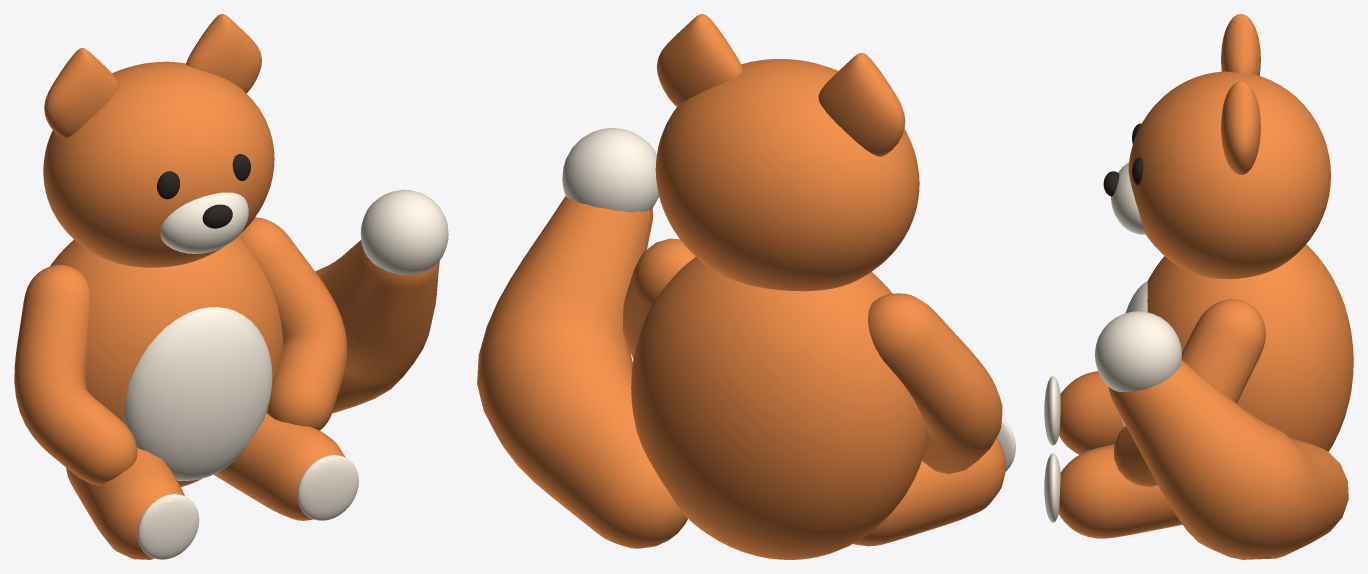
Rendered from deco_zorro.glb.
The picture shows the model from 3 angles, left to right: view 1: azimuth 30°, elevation 25°; view 2: azimuth 150°, elevation 25°; view 3: azimuth 270°, elevation 25°; orthographic projection. The views are drawn at different scales.
Parts seen in each view (by area): view 1: cabeza zorro.001, barriga zorro.001, panza zorro.001, brazo.030, brazo.031, cola zorro.001, pierna.031, punta cola.001, pierna.030, oreja gato.006, hocico.015, oreja gato.007 (+3 smaller); view 2: panza zorro.001, cabeza zorro.001, cola zorro.001, brazo.030, punta cola.001, pierna.030, oreja gato.006, oreja gato.007, brazo.031; view 3: cabeza zorro.001, cola zorro.001, panza zorro.001, pierna.031, brazo.031, punta cola.001, pierna.030, oreja gato.007, oreja gato.006, hocico.015, planta pata.030, planta pata.031 (+1 smaller).
Boxes of the visible parts, x1=… form: cabeza zorro.001: x1=43, y1=61, x2=274, y2=267; barriga zorro.001: x1=124, y1=307, x2=272, y2=480; panza zorro.001: x1=50, y1=236, x2=282, y2=486; brazo.030: x1=14, y1=265, x2=137, y2=485; brazo.031: x1=238, y1=217, x2=346, y2=430; cola zorro.001: x1=315, y1=240, x2=439, y2=413; pierna.031: x1=213, y1=413, x2=345, y2=520; punta cola.001: x1=360, y1=189, x2=448, y2=274; pierna.030: x1=66, y1=448, x2=184, y2=559; oreja gato.006: x1=44, y1=48, x2=119, y2=138; hocico.015: x1=160, y1=192, x2=248, y2=253; oreja gato.007: x1=186, y1=14, x2=261, y2=93; panza zorro.001: x1=631, y1=257, x2=927, y2=559; cabeza zorro.001: x1=655, y1=59, x2=919, y2=291; cola zorro.001: x1=477, y1=196, x2=687, y2=548; brazo.030: x1=868, y1=293, x2=1002, y2=474; punta cola.001: x1=562, y1=128, x2=658, y2=212; pierna.030: x1=853, y1=438, x2=1005, y2=546; oreja gato.006: x1=818, y1=53, x2=905, y2=156; oreja gato.007: x1=656, y1=14, x2=742, y2=106; brazo.031: x1=622, y1=238, x2=695, y2=358; cabeza zorro.001: x1=1128, y1=71, x2=1330, y2=279; cola zorro.001: x1=1108, y1=360, x2=1348, y2=559; panza zorro.001: x1=1147, y1=244, x2=1353, y2=451; pierna.031: x1=1058, y1=444, x2=1182, y2=538; brazo.031: x1=1114, y1=299, x2=1265, y2=486; punta cola.001: x1=1094, y1=311, x2=1181, y2=392; pierna.030: x1=1059, y1=371, x2=1123, y2=454; oreja gato.007: x1=1221, y1=81, x2=1260, y2=174; oreja gato.006: x1=1221, y1=14, x2=1260, y2=75; hocico.015: x1=1111, y1=162, x2=1145, y2=234; planta pata.030: x1=1044, y1=376, x2=1060, y2=445; planta pata.031: x1=1044, y1=453, x2=1060, y2=522.
Bounding box in the file's own units: 0.4203 × 0.4338 × 0.2716.
